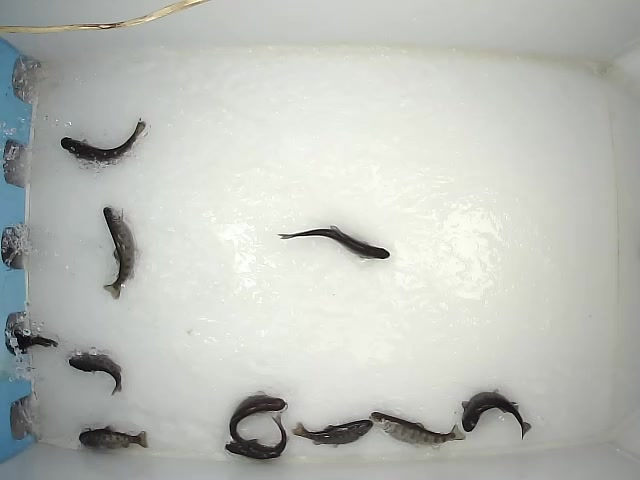fish: (276, 224, 392, 261), (59, 117, 149, 164), (100, 205, 140, 302), (461, 388, 533, 441), (368, 411, 468, 447), (228, 390, 286, 446), (224, 414, 289, 461), (290, 417, 374, 449), (68, 352, 124, 399), (78, 424, 151, 453)
